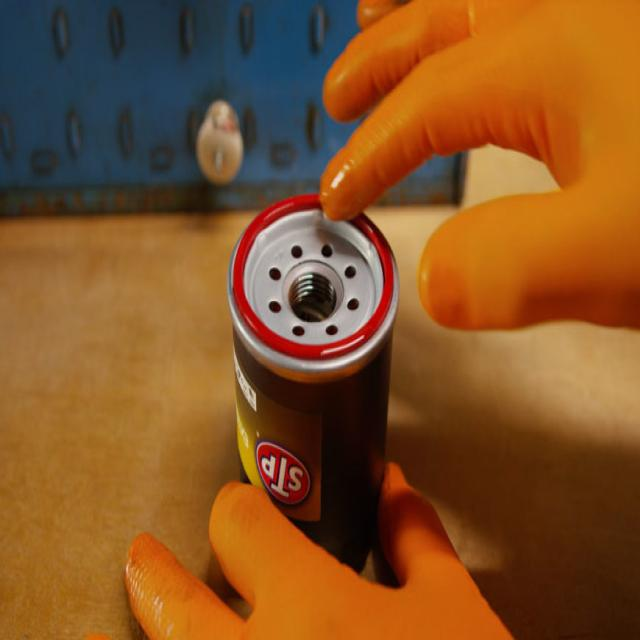oil_filter: (222, 192, 403, 476)
